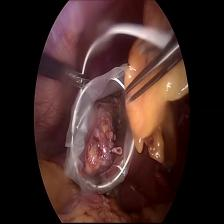Grasper: (64, 67, 93, 93)
Specimen Bag: (65, 62, 134, 193)
